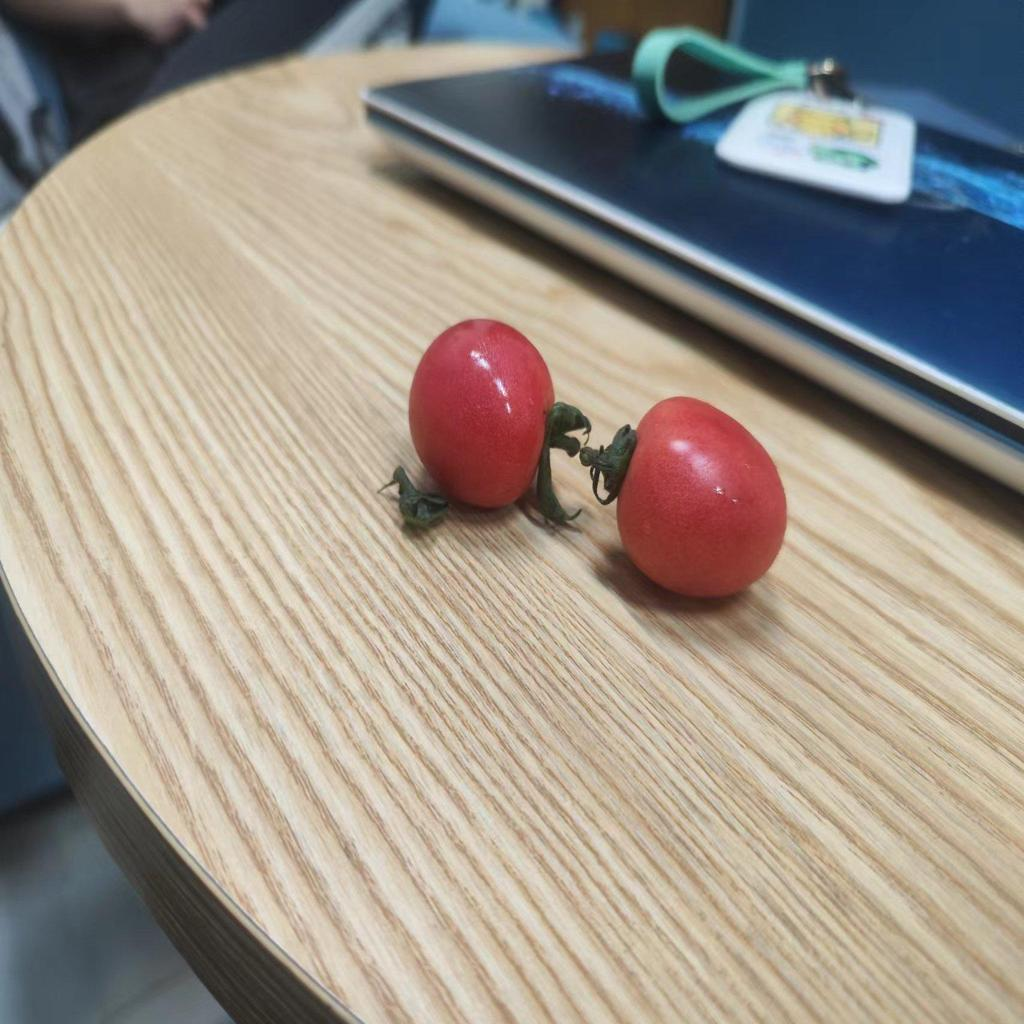tomato: (617, 392, 790, 602), (403, 318, 567, 516)
